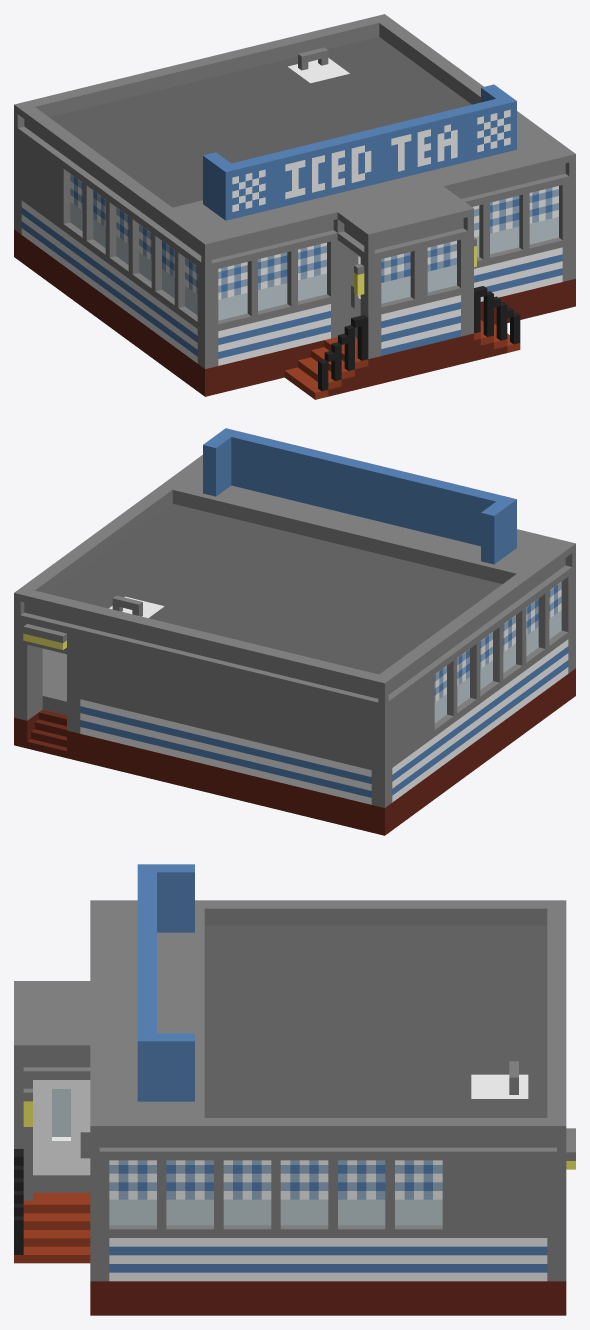
The model's file is iced_tea1.obj.
3 views of the same model, one above another, from view 1: azimuth 30°, elevation 25°; view 2: azimuth 150°, elevation 25°; view 3: azimuth 270°, elevation 25° (orthographic). The views are drawn at different scales.
Parts seen in each view (by area): view 1: iced_tea1; view 2: iced_tea1; view 3: iced_tea1.
Boxes of the visible parts, box(x1,y1,x2,y2) form: iced_tea1: box(14, 14, 575, 399); iced_tea1: box(14, 428, 575, 835); iced_tea1: box(14, 864, 575, 1315).
Bounding box in the file's own units: 56 × 29 × 59.
1 material, 1 textured.
